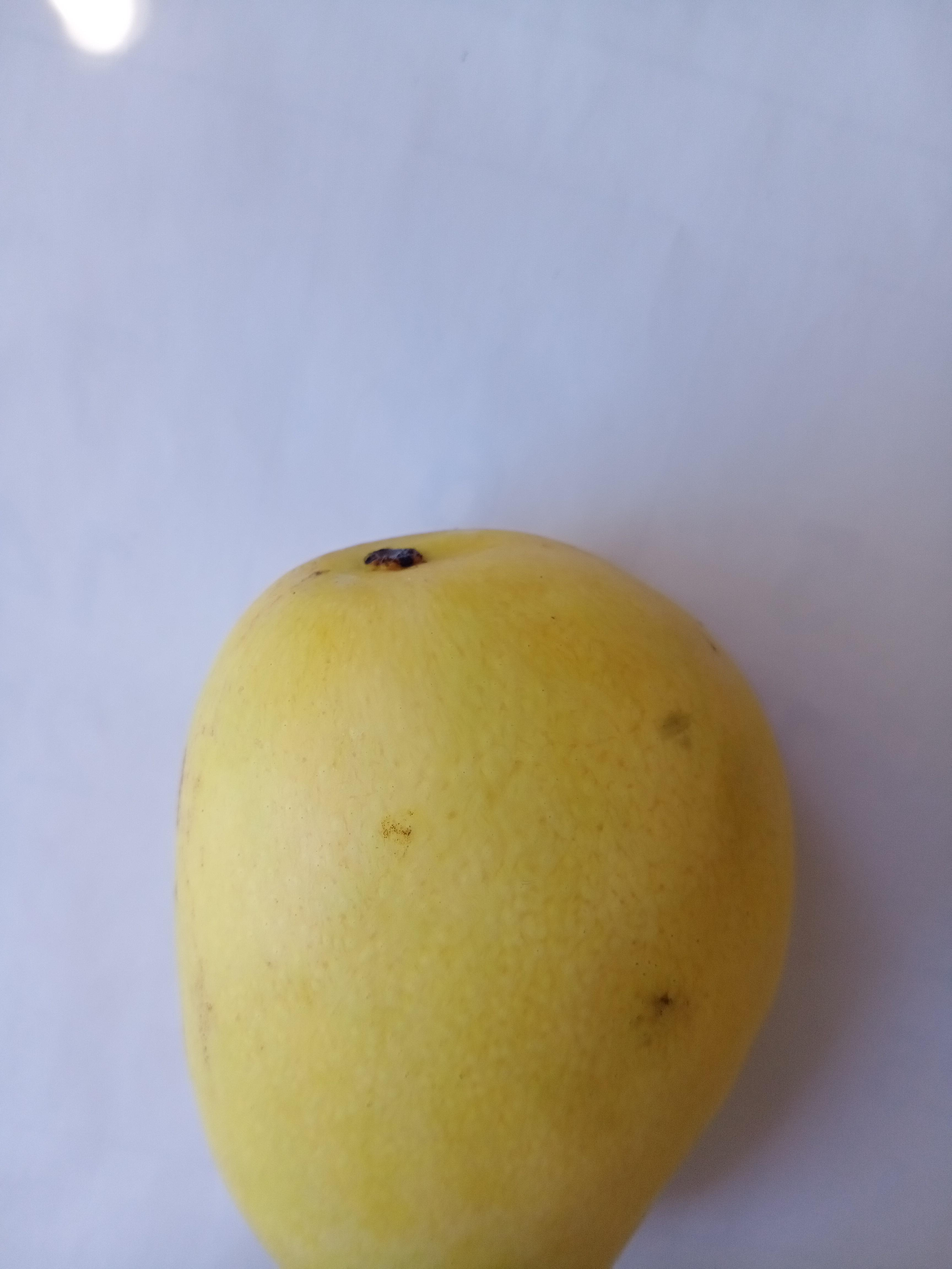Mango Ripe: (130, 463, 810, 1269)
